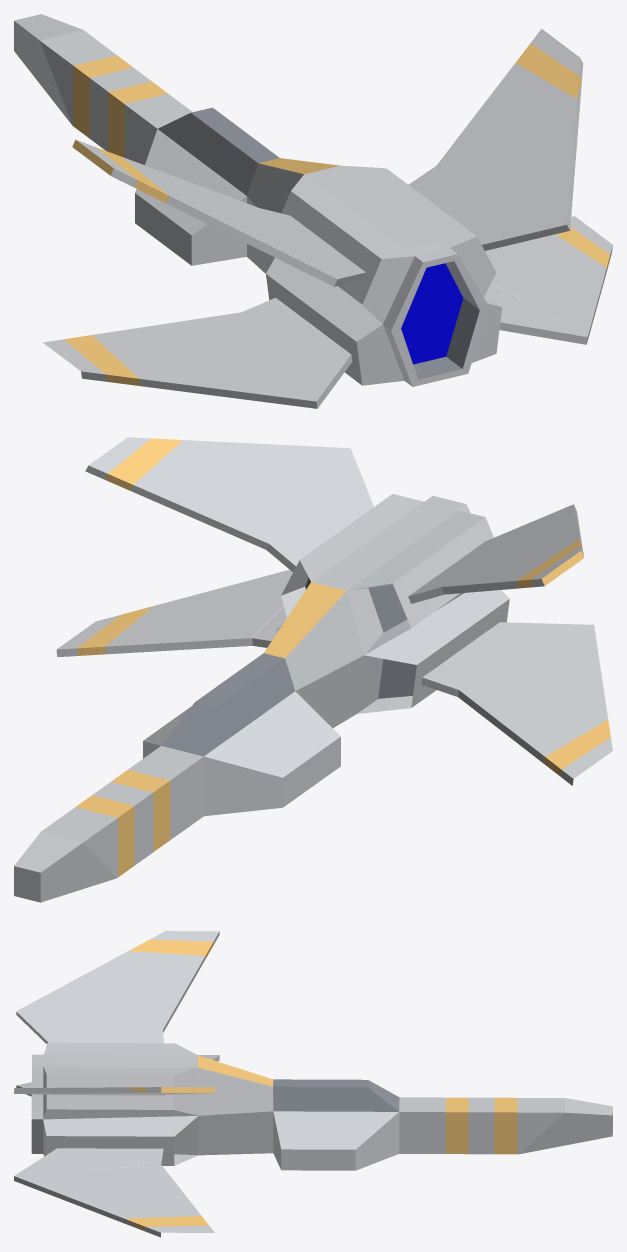
The model's file is dirk_3rd.glb.
3 renders of one model, top to bottom at view 1: azimuth 30°, elevation 25°; view 2: azimuth 150°, elevation 25°; view 3: azimuth 270°, elevation 25°, orthographic. The views are drawn at different scales.
Parts seen in each view (by area): view 1: ferret-3rd; view 2: ferret-3rd; view 3: ferret-3rd.
Part boxes in pixels (<box>): ferret-3rd: <box>14,14,612,408</box>; ferret-3rd: <box>14,437,612,902</box>; ferret-3rd: <box>14,931,612,1237</box>.
Size of the model in its own units: 22.8 by 8.34 by 32.39.
